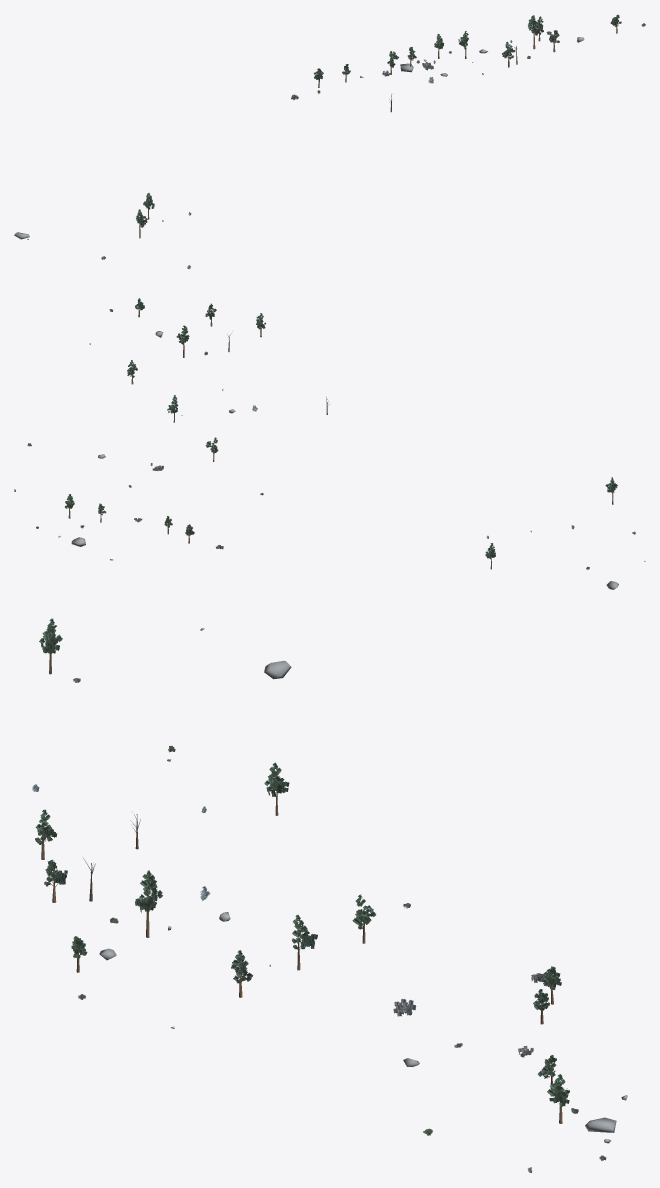
The model's file is frost_land_scatter_c13_08.glb.
3 views of the same model, one above another, from view 1: azimuth 30°, elevation 25°; view 2: azimuth 150°, elevation 25°; view 3: azimuth 270°, elevation 25° (orthographic). The views are drawn at different scales.
Visible parts, largest first — view 1: frost_land_scatter_c13_08; view 2: frost_land_scatter_c13_08; view 3: frost_land_scatter_c13_08.
Part boxes in pixels (x1,y1,x2,y2): frost_land_scatter_c13_08: [14, 14, 645, 268]; frost_land_scatter_c13_08: [14, 298, 645, 589]; frost_land_scatter_c13_08: [32, 618, 627, 1172].
Size of the model in its own units: 252 by 62.08 by 115.
